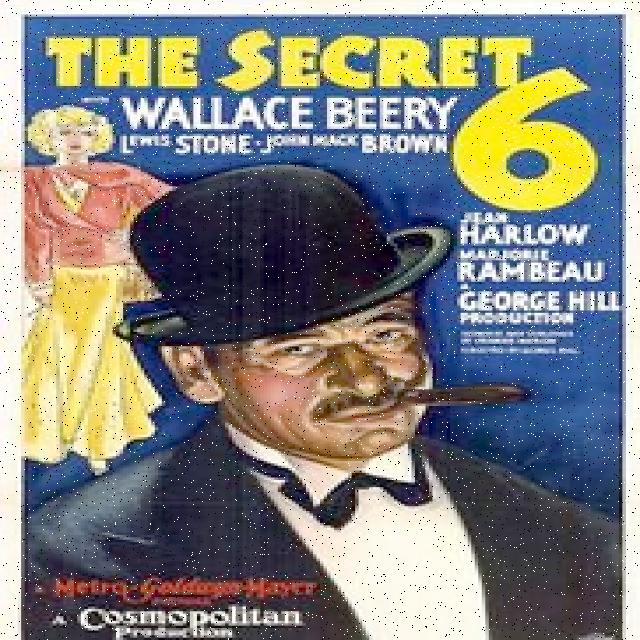movie-judul: (34, 24, 602, 208)
picture: (106, 169, 594, 634), (28, 109, 169, 464)
